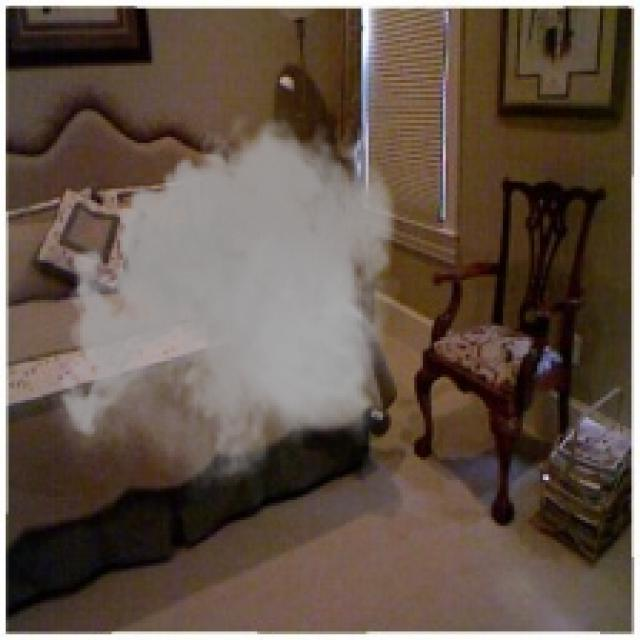smoke: (49, 106, 408, 500)
